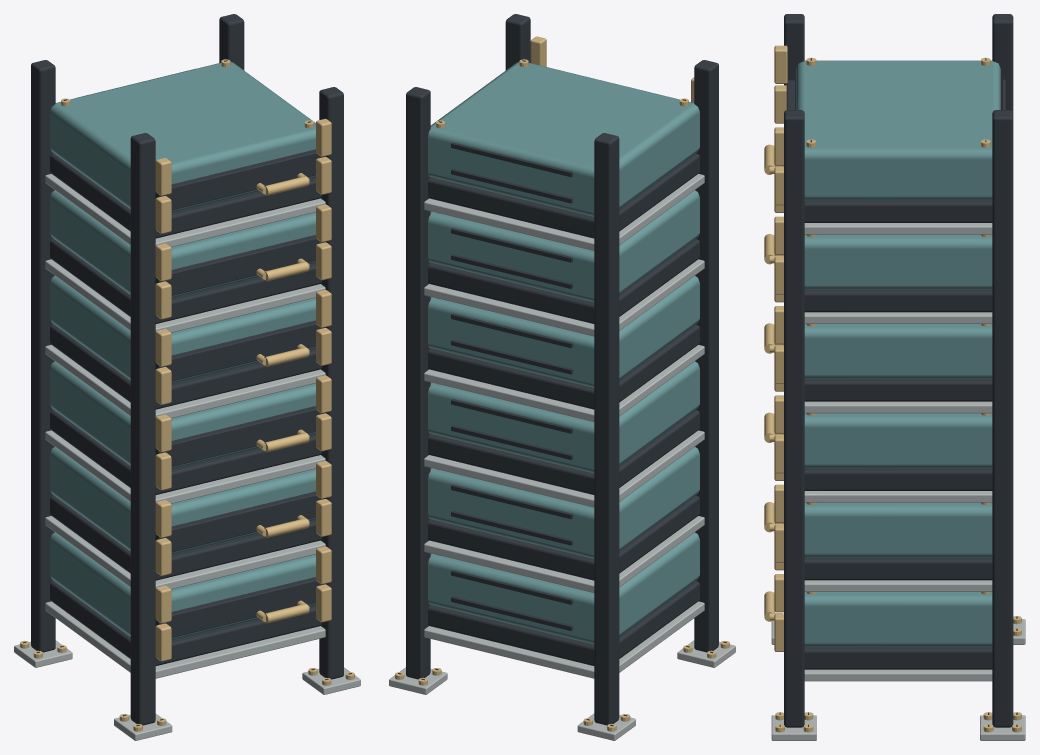
File: abandoned-cinema-and-projection-booth-abandoned-cinema-ab07b04e__29714.glb
3 renders of one model, left to right at view 1: azimuth 30°, elevation 25°; view 2: azimuth 150°, elevation 25°; view 3: azimuth 270°, elevation 25°, orthographic. The views are drawn at different scales.
Parts seen in each view (by area): view 1: abandoned-cinema-and-projection-booth-equipment-rack; view 2: abandoned-cinema-and-projection-booth-equipment-rack; view 3: abandoned-cinema-and-projection-booth-equipment-rack.
Part boxes in pixels (x1=…): abandoned-cinema-and-projection-booth-equipment-rack: x1=14, y1=14, x2=360, y2=740; abandoned-cinema-and-projection-booth-equipment-rack: x1=389, y1=14, x2=735, y2=740; abandoned-cinema-and-projection-booth-equipment-rack: x1=764, y1=14, x2=1025, y2=740.
Size of the model in its own units: 0.7199 by 1.8 by 0.689.
